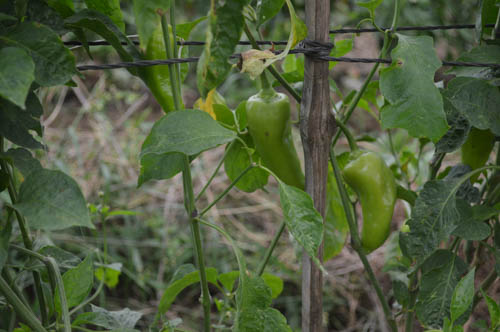ChiliPepper: (249, 92, 304, 189), (350, 152, 398, 257), (142, 27, 179, 116)
